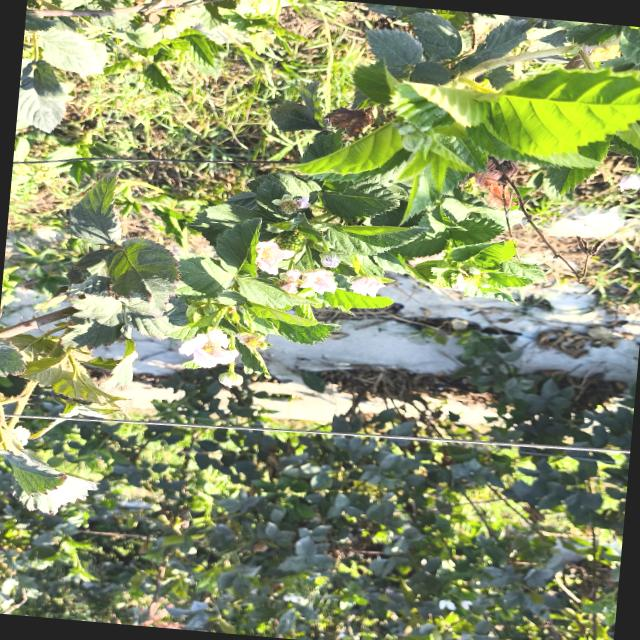boton: (218, 371, 243, 387), (319, 250, 341, 268)
flor: (179, 328, 238, 368), (255, 241, 295, 274), (300, 269, 336, 294), (351, 275, 384, 297)
